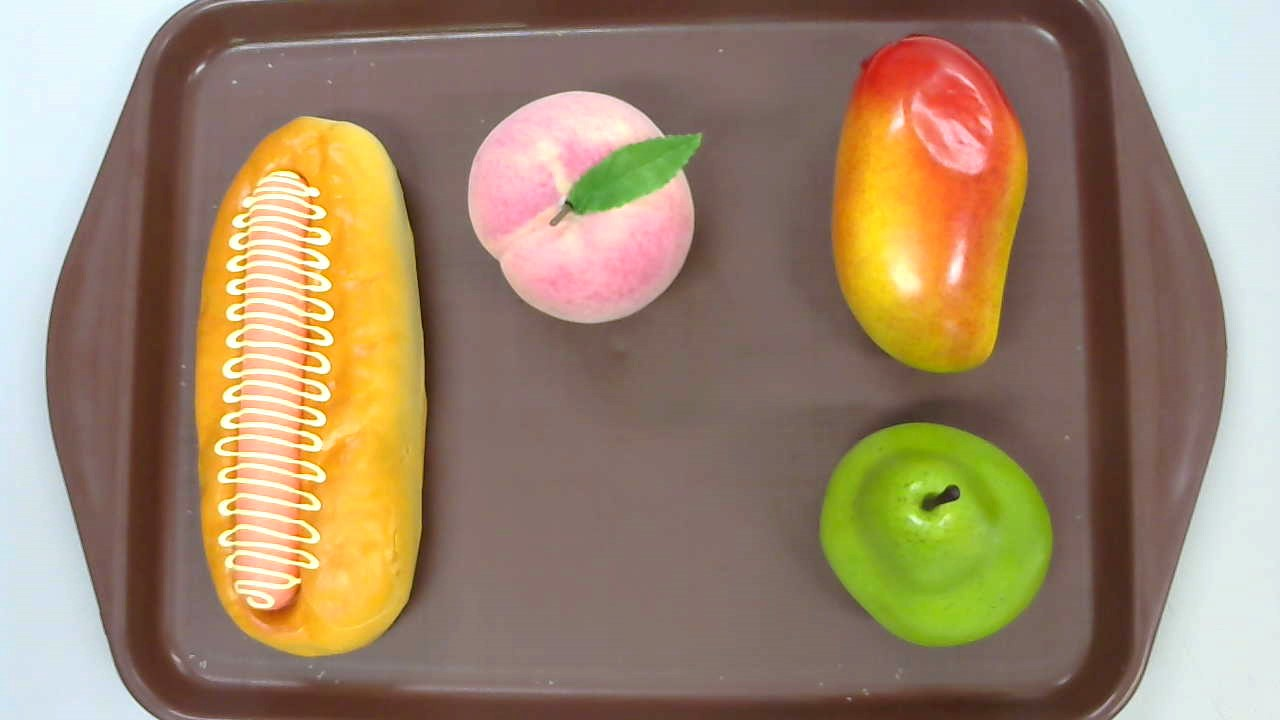green pear: (819, 421, 1053, 647)
hot dog: (192, 116, 427, 659)
peach: (466, 91, 702, 326)
red mango: (831, 34, 1027, 372)
